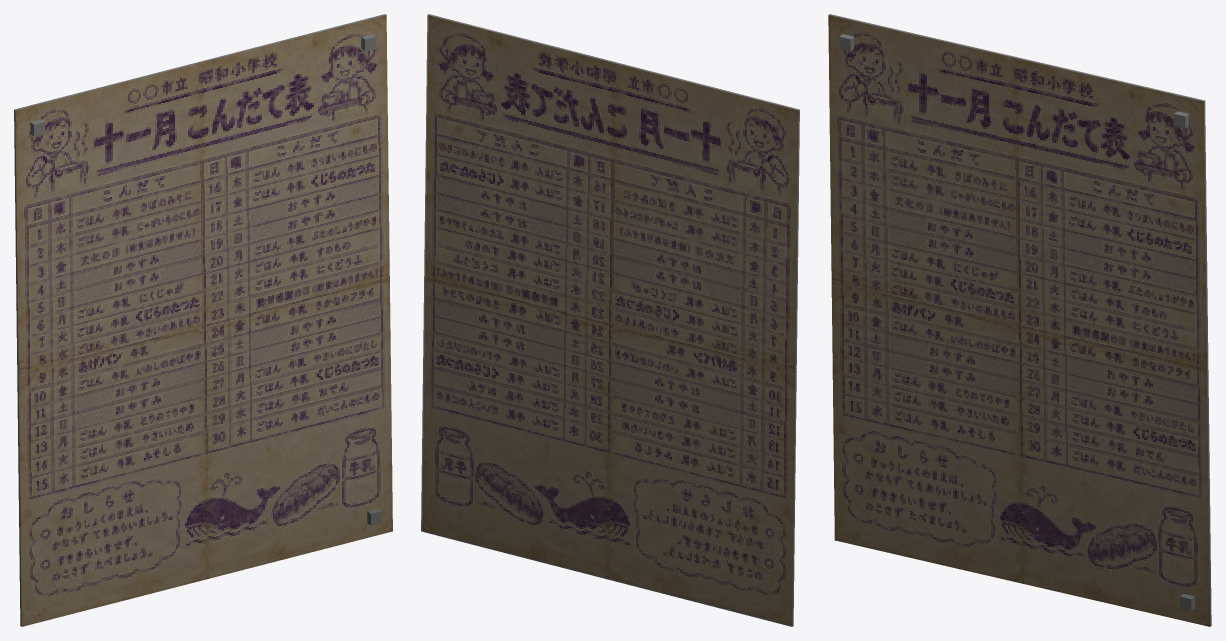
The model's file is prop_poster-kondate-0.glb.
3 renders of one model, left to right at view 1: azimuth 30°, elevation 25°; view 2: azimuth 150°, elevation 25°; view 3: azimuth 330°, elevation 25°, orthographic.
Parts seen in each view (by area): view 1: prop_poster-kondate-0; view 2: prop_poster-kondate-0; view 3: prop_poster-kondate-0.
Part boxes in pixels (x1,y1,x2,y2): prop_poster-kondate-0: (14,14,392,626); prop_poster-kondate-0: (421,14,799,626); prop_poster-kondate-0: (828,14,1211,626).
Bounding box in the file's own units: 0.4687 × 0.6203 × 0.0115.
Materials: 2 (2 with a texture image).
